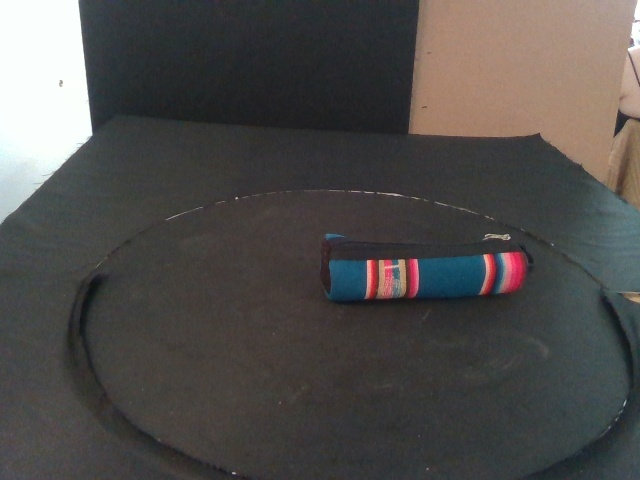pencil_case: (318, 232, 528, 299)
